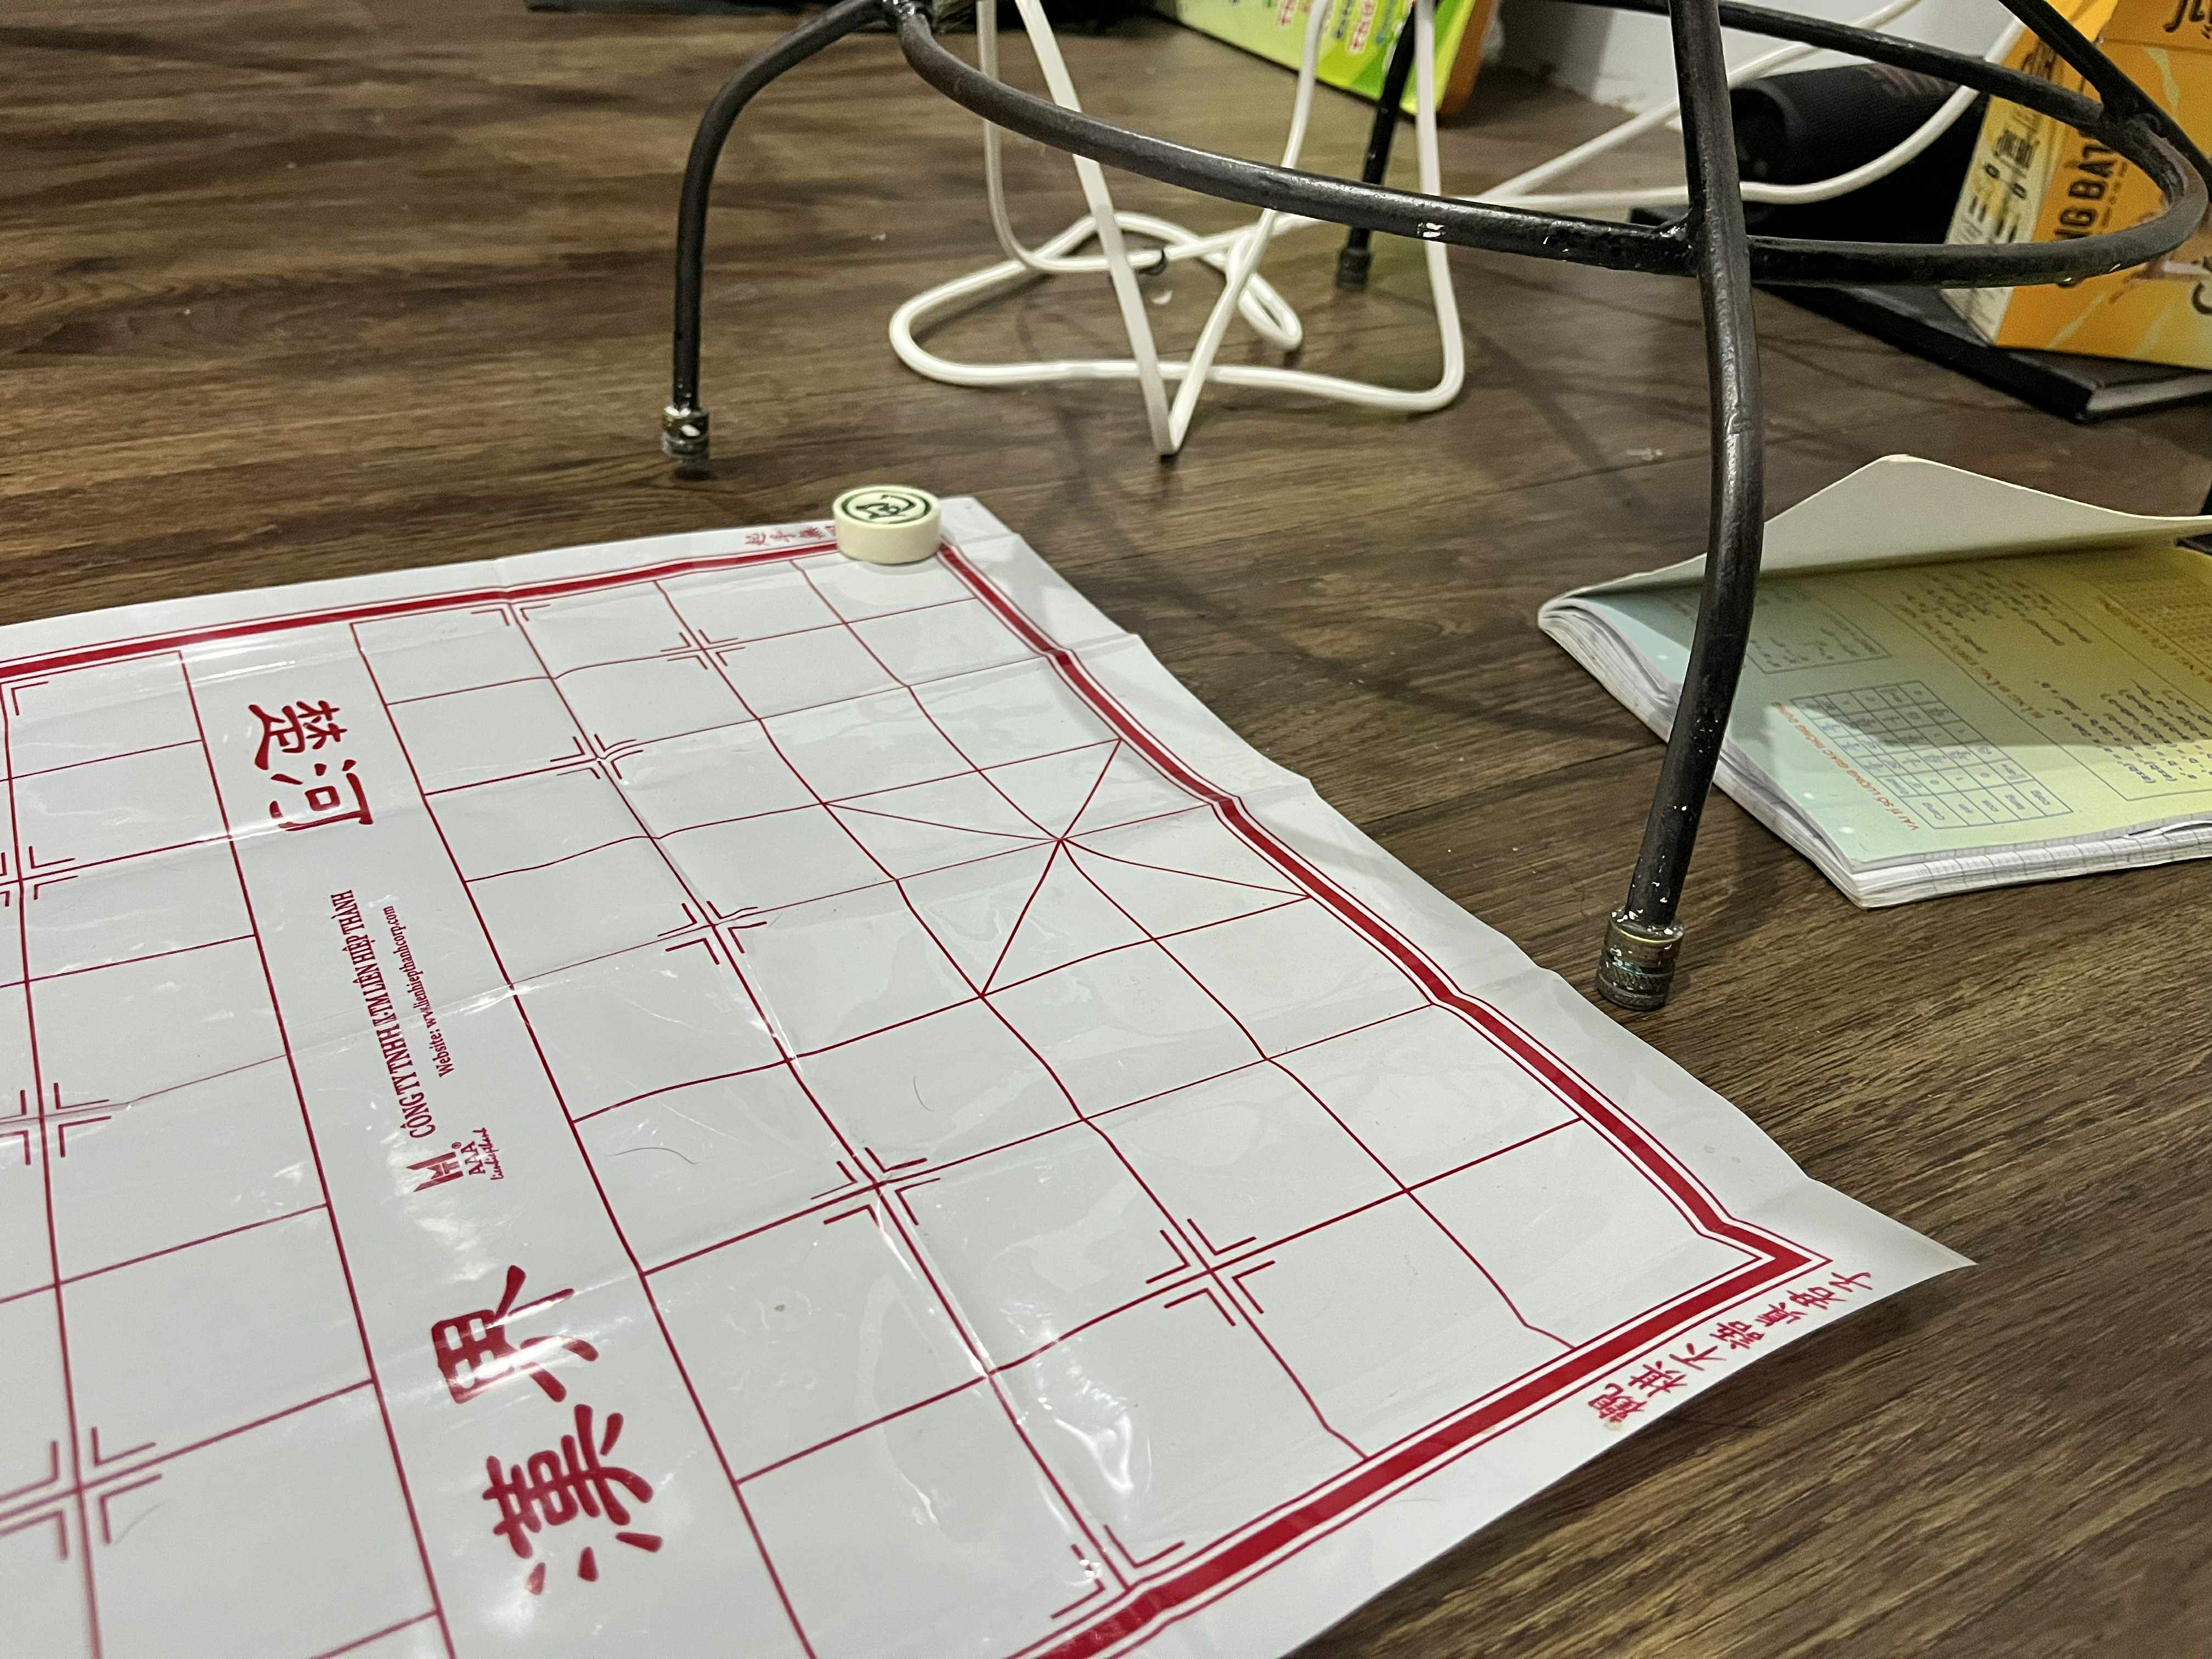black-cannon: (833, 485, 940, 528)
